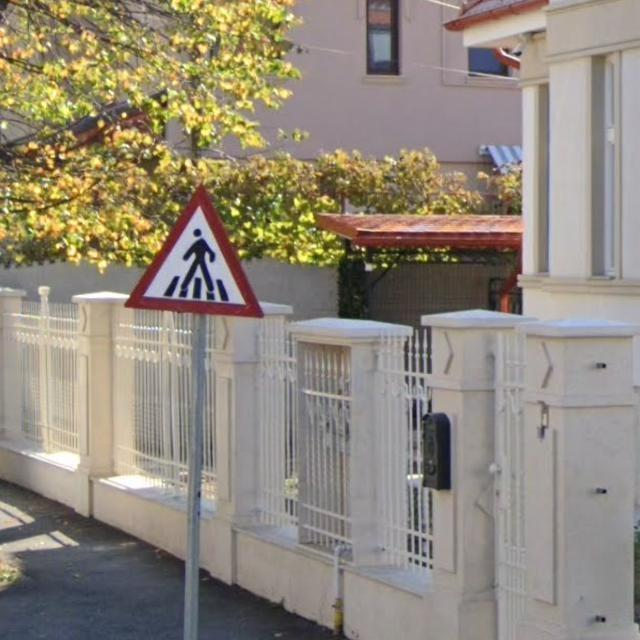warn_crosswalk: (122, 183, 266, 319)
